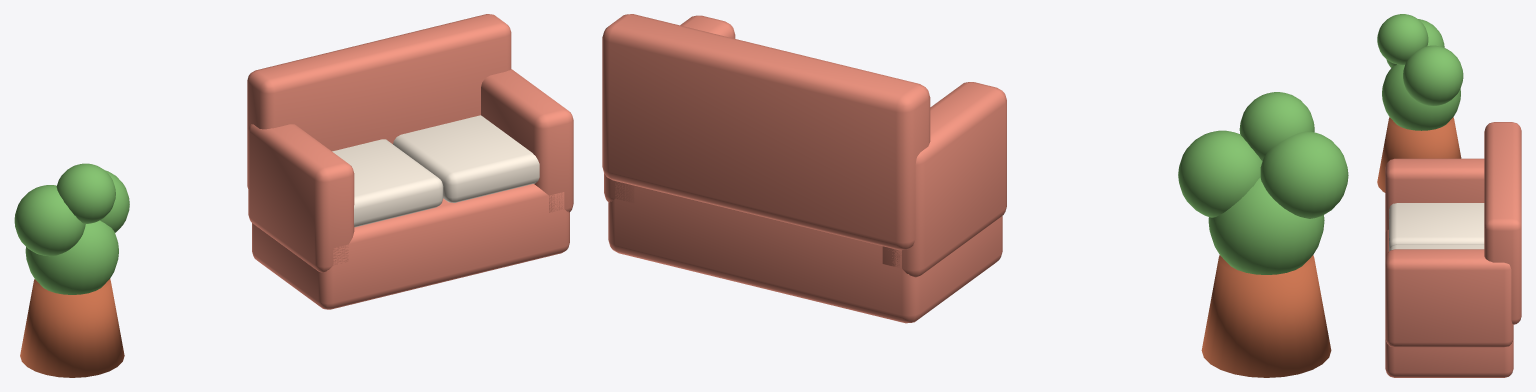
File: room-sala.glb
3 renders of one model, left to right at view 1: azimuth 30°, elevation 25°; view 2: azimuth 150°, elevation 25°; view 3: azimuth 270°, elevation 25°, orthographic. The views are drawn at different scales.
Visible parts, largest first — view 1: RoomSala; view 2: RoomSala; view 3: RoomSala.
Boxes of the visible parts, left/top/right/bottom form: RoomSala: left=14, top=14, right=573, bottom=377; RoomSala: left=602, top=14, right=1348, bottom=377; RoomSala: left=1377, top=14, right=1521, bottom=377.
Bounding box in the file's own units: 2.27 × 0.79 × 0.62.
